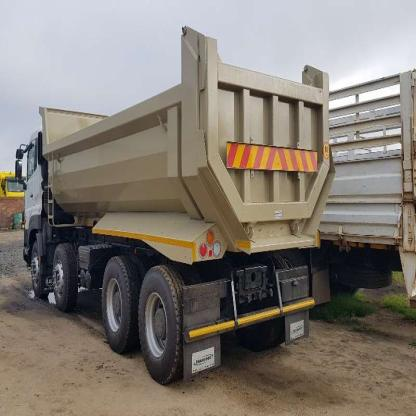dump_truck: (7, 19, 333, 388)
